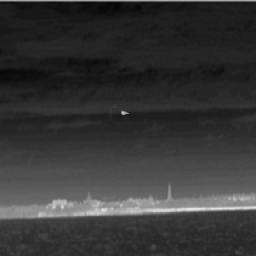Target: (120, 110, 130, 115)
